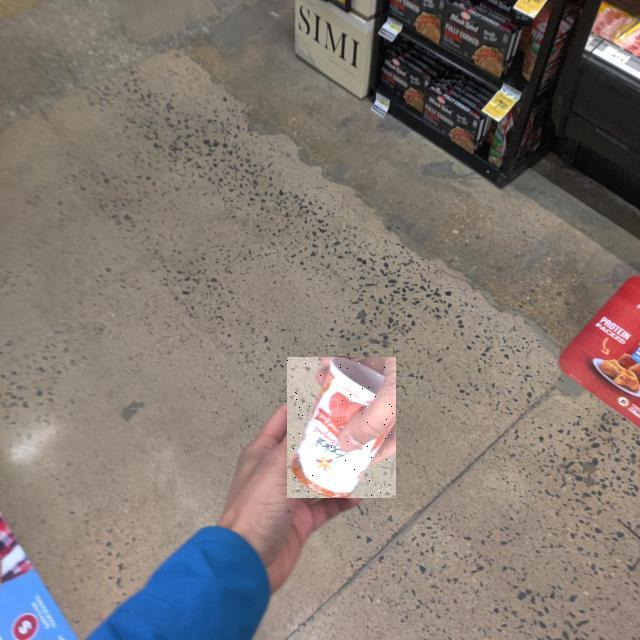Yoghurt: (287, 357, 396, 498)
